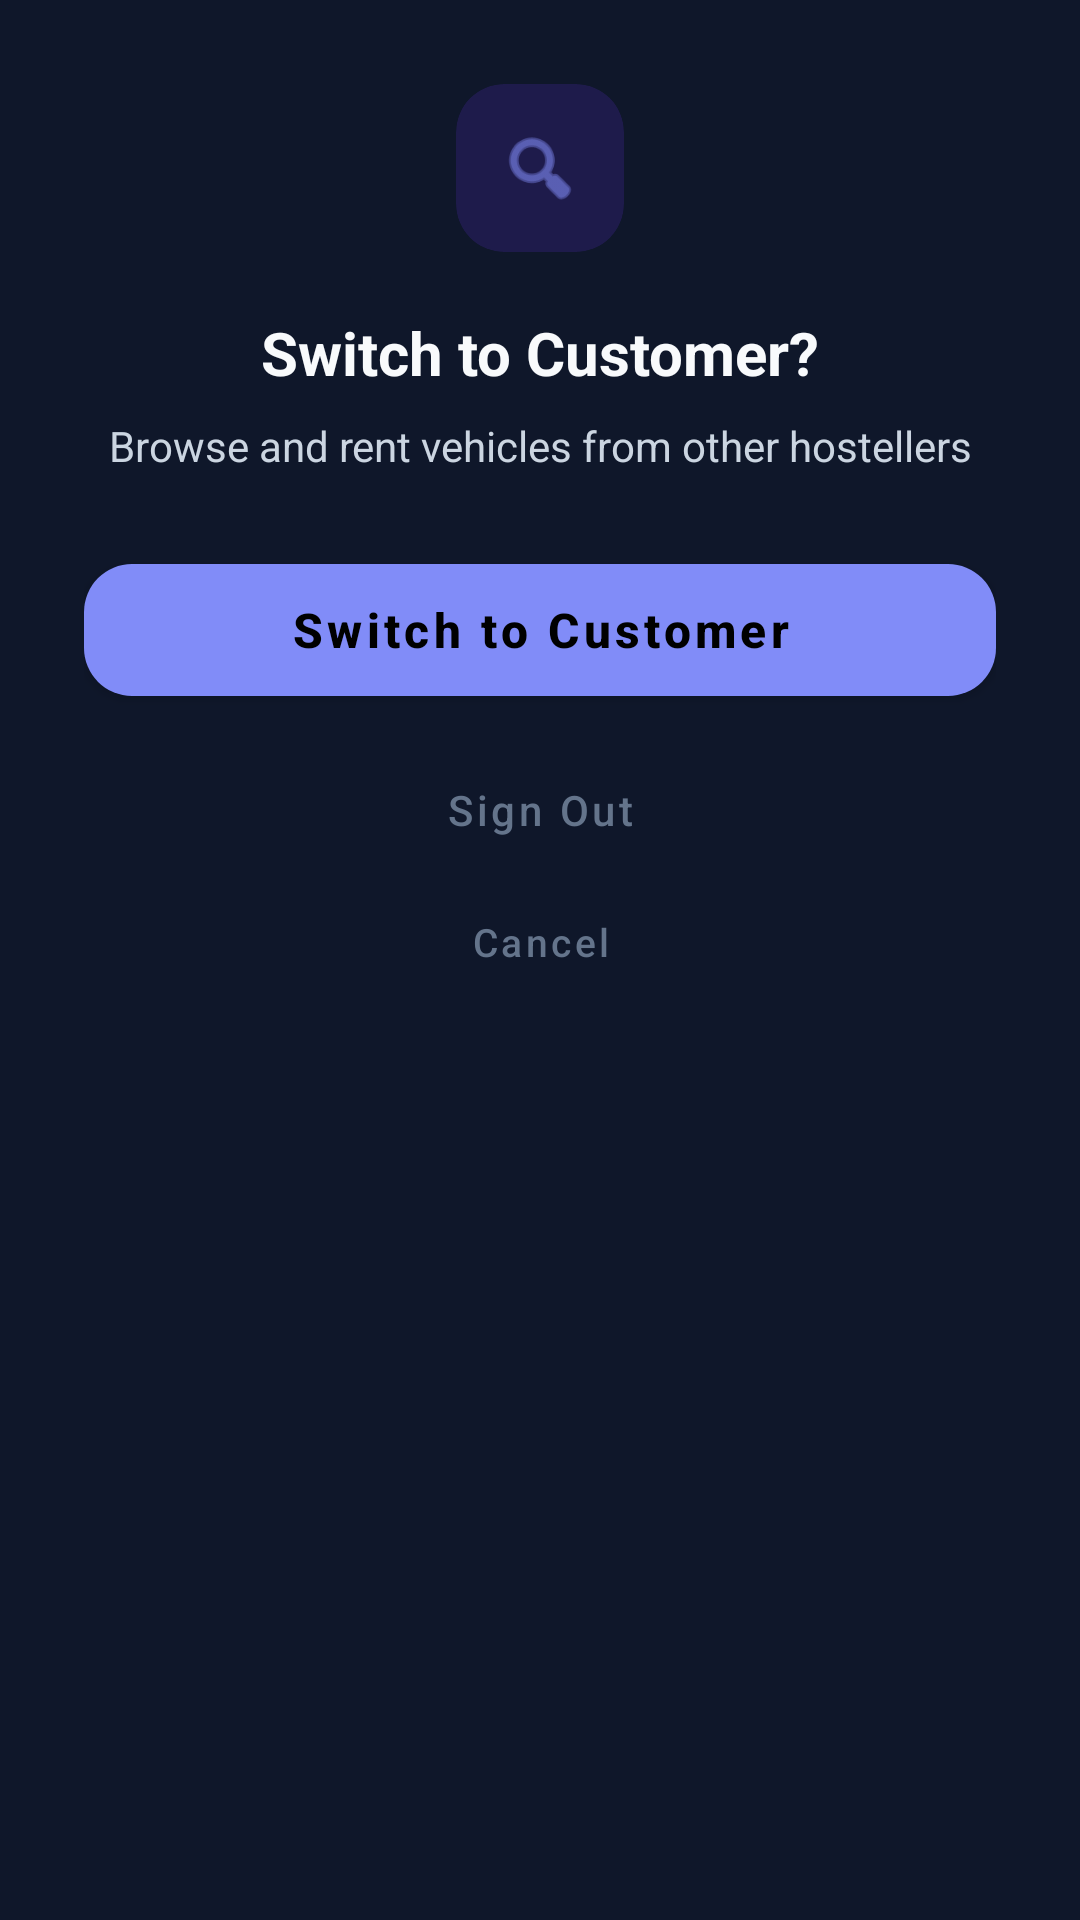

Icon click points for this 1080*1920 phone screenshot, format [x,y]:
search: [540,168]
